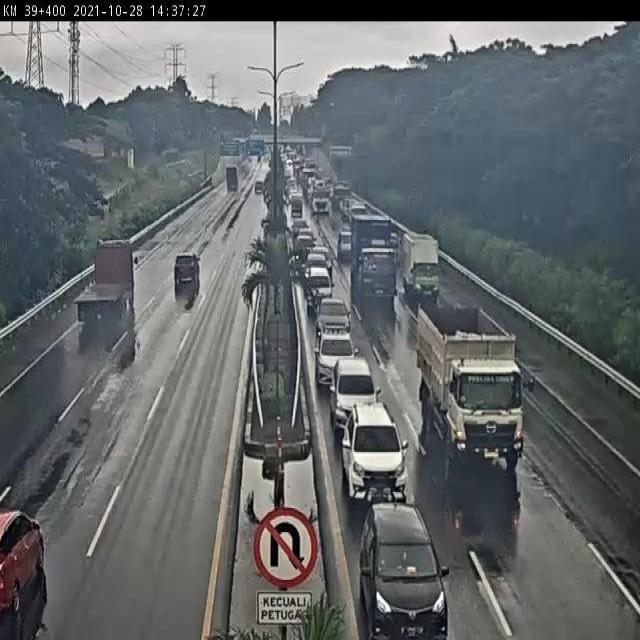big truck: (418, 308, 536, 472), (76, 240, 140, 324), (348, 212, 396, 303)
car: (358, 504, 454, 640), (340, 401, 406, 507), (332, 356, 380, 436), (312, 328, 358, 391), (316, 295, 354, 341), (304, 262, 333, 310), (174, 256, 202, 288)
small truck: (402, 230, 441, 302)
